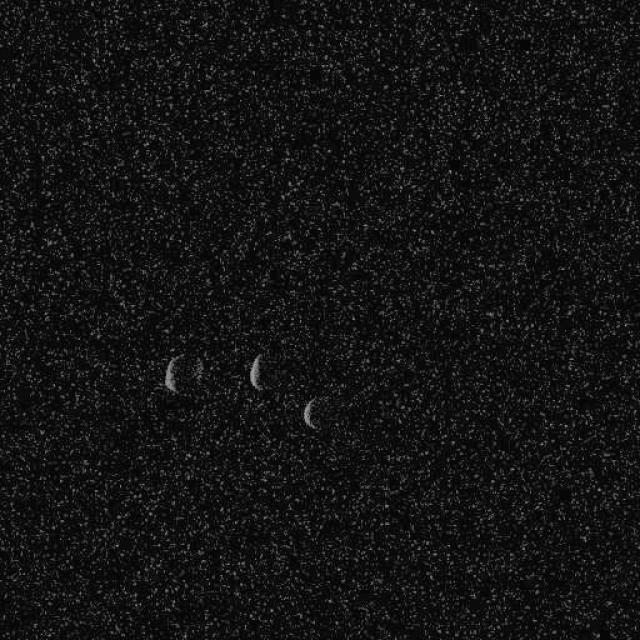D2: (162, 355, 180, 393), (248, 351, 264, 390), (301, 398, 319, 432)
